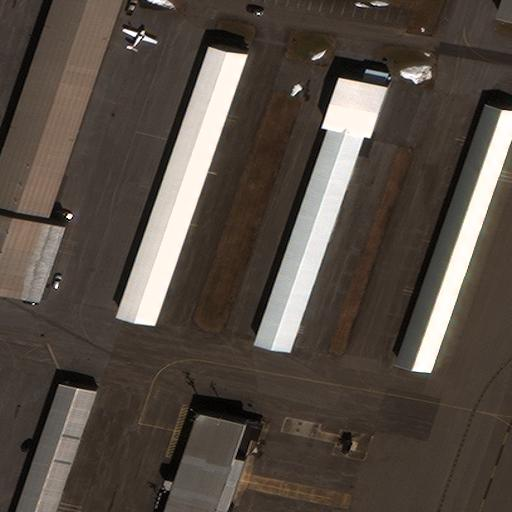Small Civil Transport: (123, 27, 157, 51)
